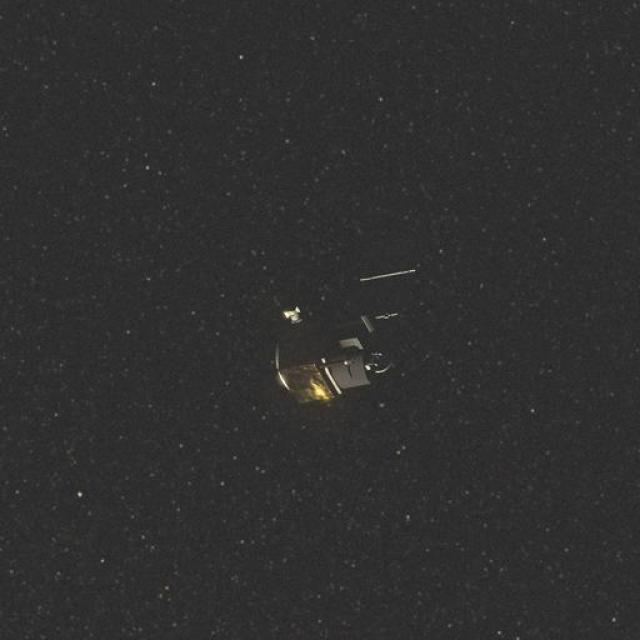earth_observation_sat_1: (257, 282, 418, 411)
